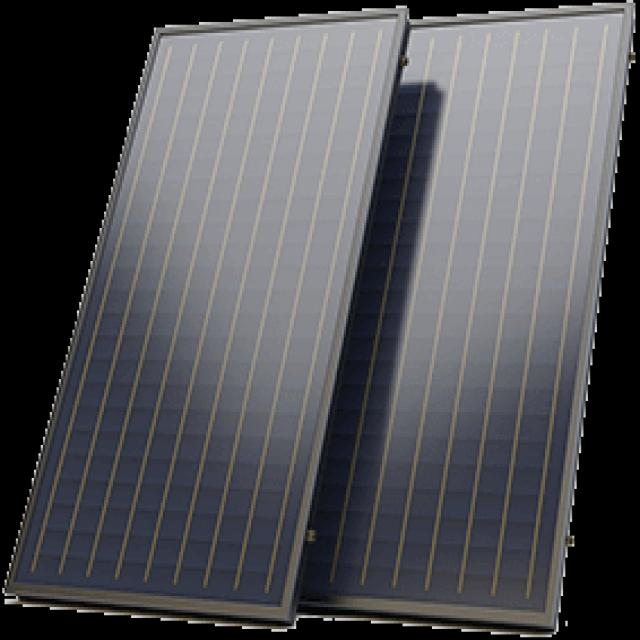clean-solar-panel: (5, 7, 635, 632)
